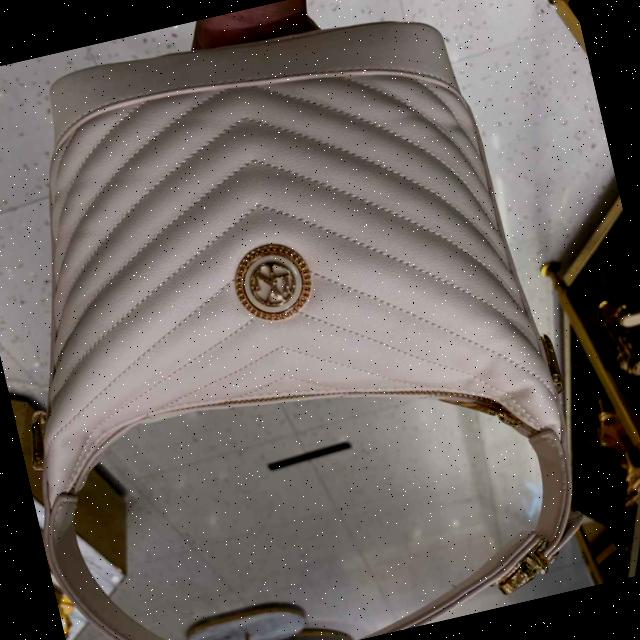Handbag: (0, 0, 592, 530)
